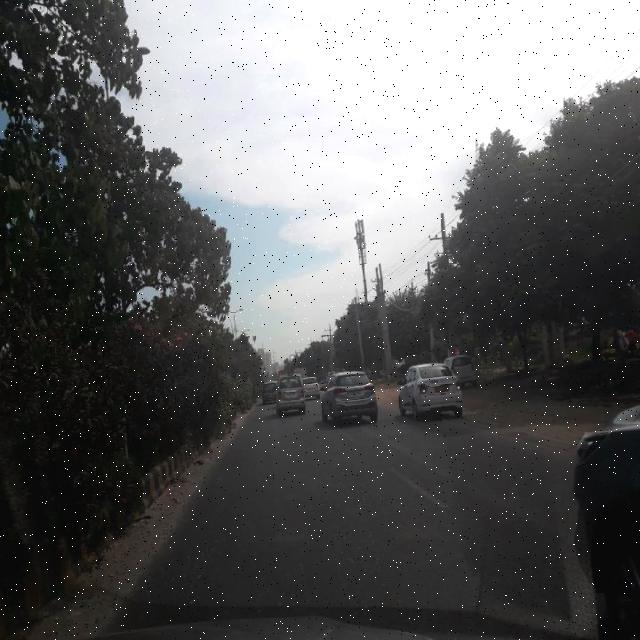D20: (142, 429, 571, 618)
D44: (386, 462, 450, 506)
